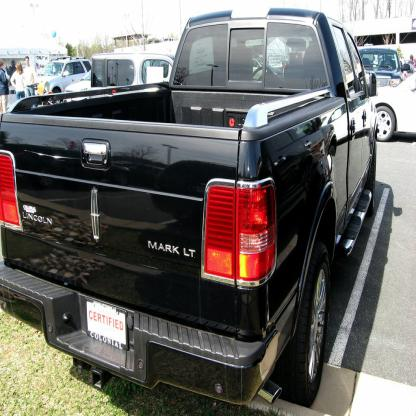Car: (34, 38, 416, 142)
Truck: (0, 8, 378, 405)
